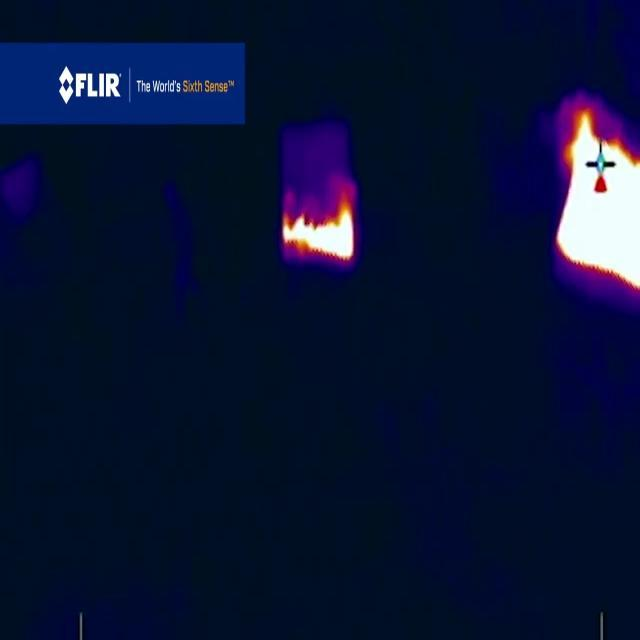fire: (556, 113, 640, 291), (284, 185, 359, 265)
